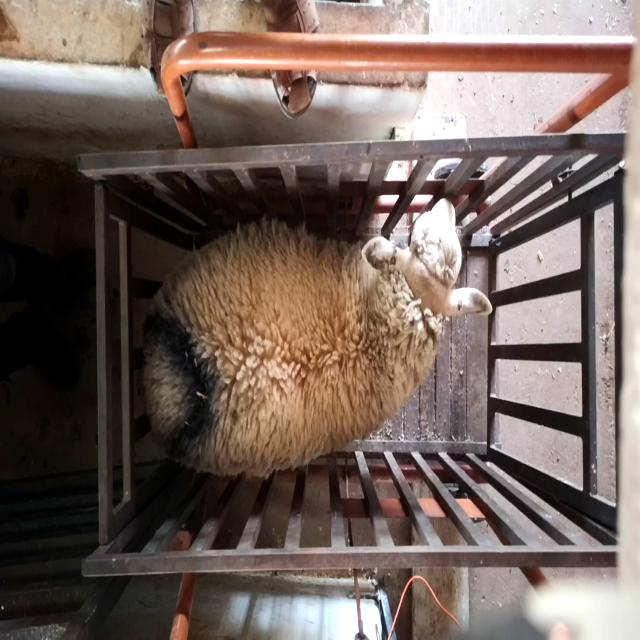sheep: (139, 198, 494, 482)
